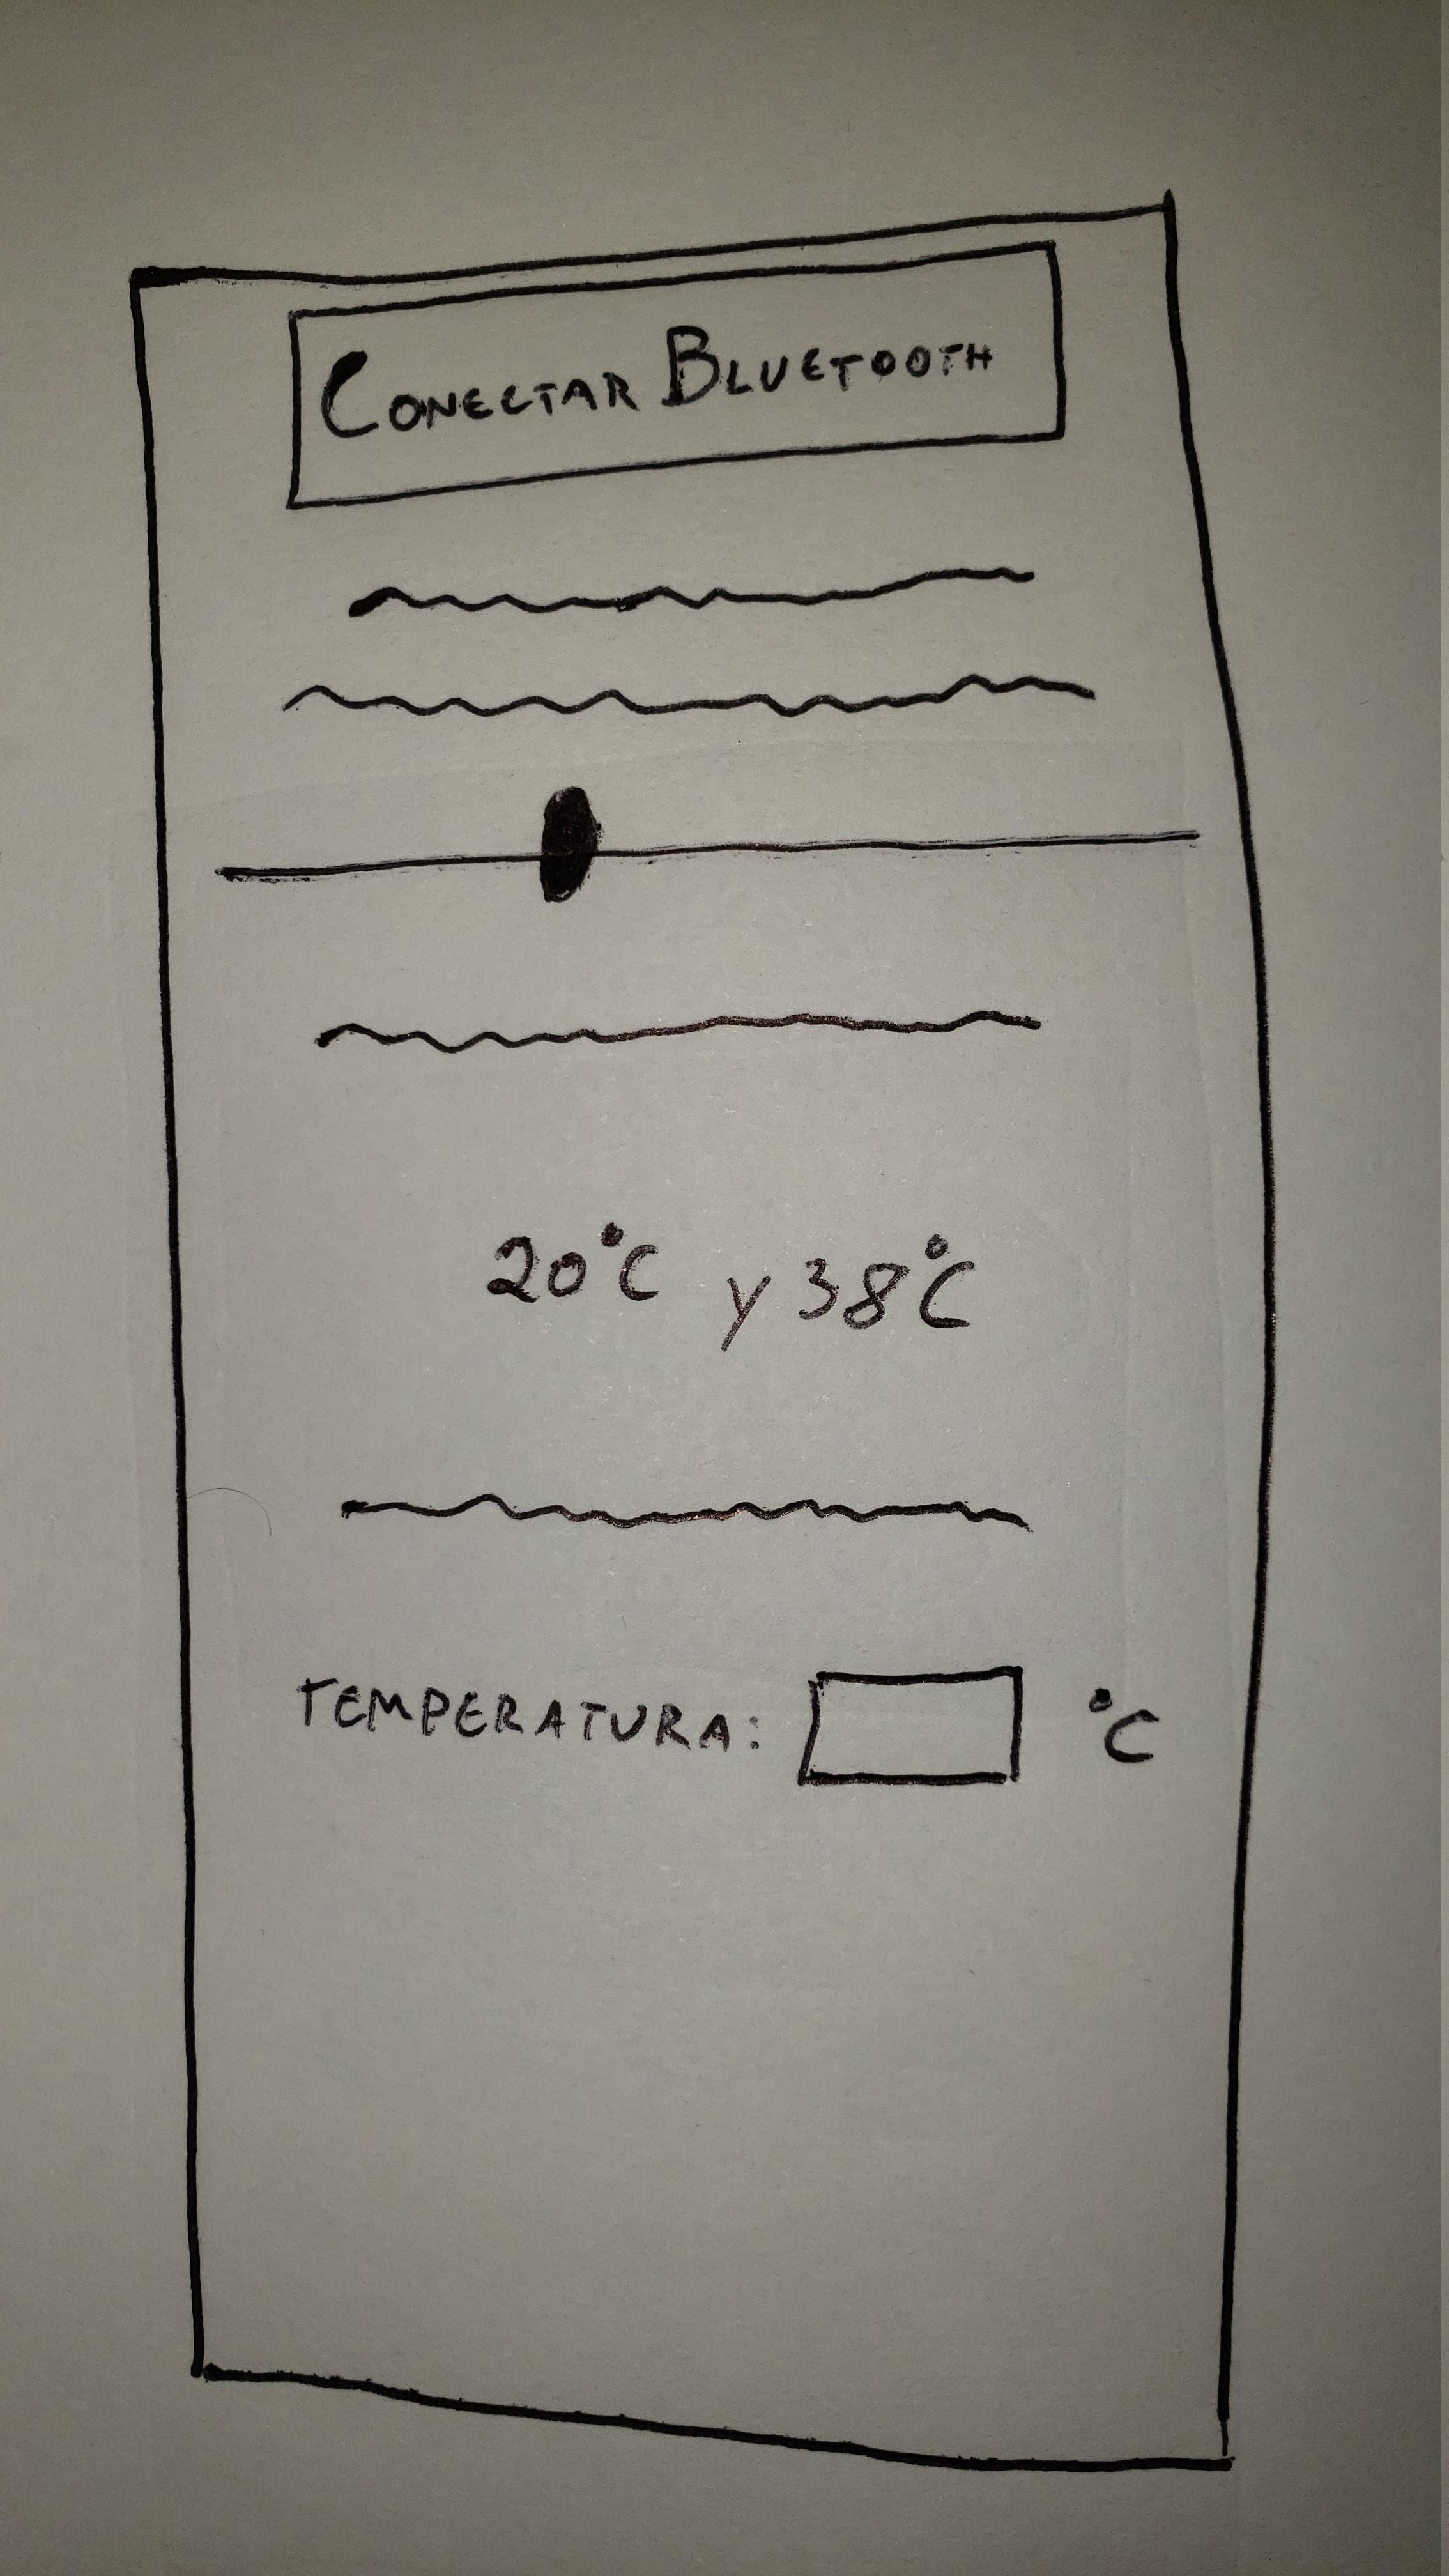Button: (286, 238, 1067, 510)
Label: (284, 562, 1097, 724), (486, 1221, 975, 1353), (298, 1678, 760, 1754), (316, 1007, 1045, 1051), (342, 1486, 1029, 1530), (1085, 1686, 1163, 1766)
Screen: (125, 201, 1280, 2472)
Slider: (215, 785, 1199, 905)
TextBox: (797, 1666, 1023, 1786)
